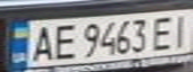3: (130, 16, 154, 54)
4: (100, 19, 121, 56)
6: (115, 18, 136, 55)
9: (78, 19, 103, 58)
A: (27, 22, 57, 63)
E: (48, 21, 78, 61), (148, 13, 178, 51)
I: (169, 11, 193, 48)
